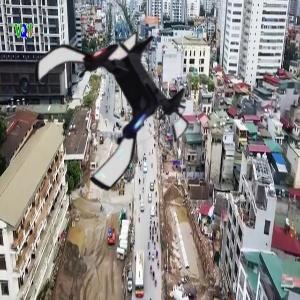drone: (29, 16, 194, 181)
